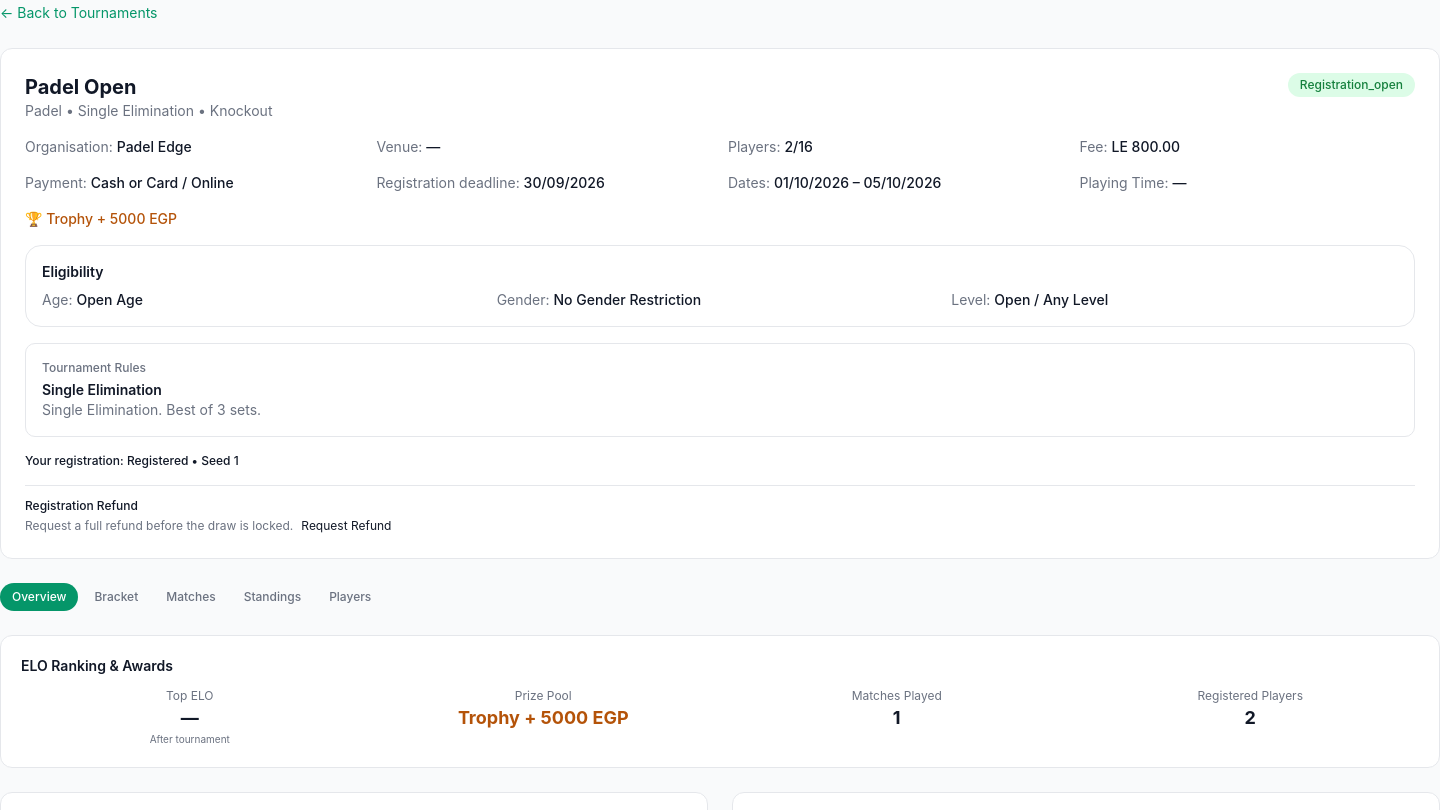
Test: TournamentDetailPage — player detail authoritative contract (Group 1B) › renders the bracket with player names and score_summary
Expected: the heading "Padel Open" is shown, [25,75,136,99]
Click the tab "Bracket" at coordinates (116, 597), box [82,583,150,611]
(page scrolled)
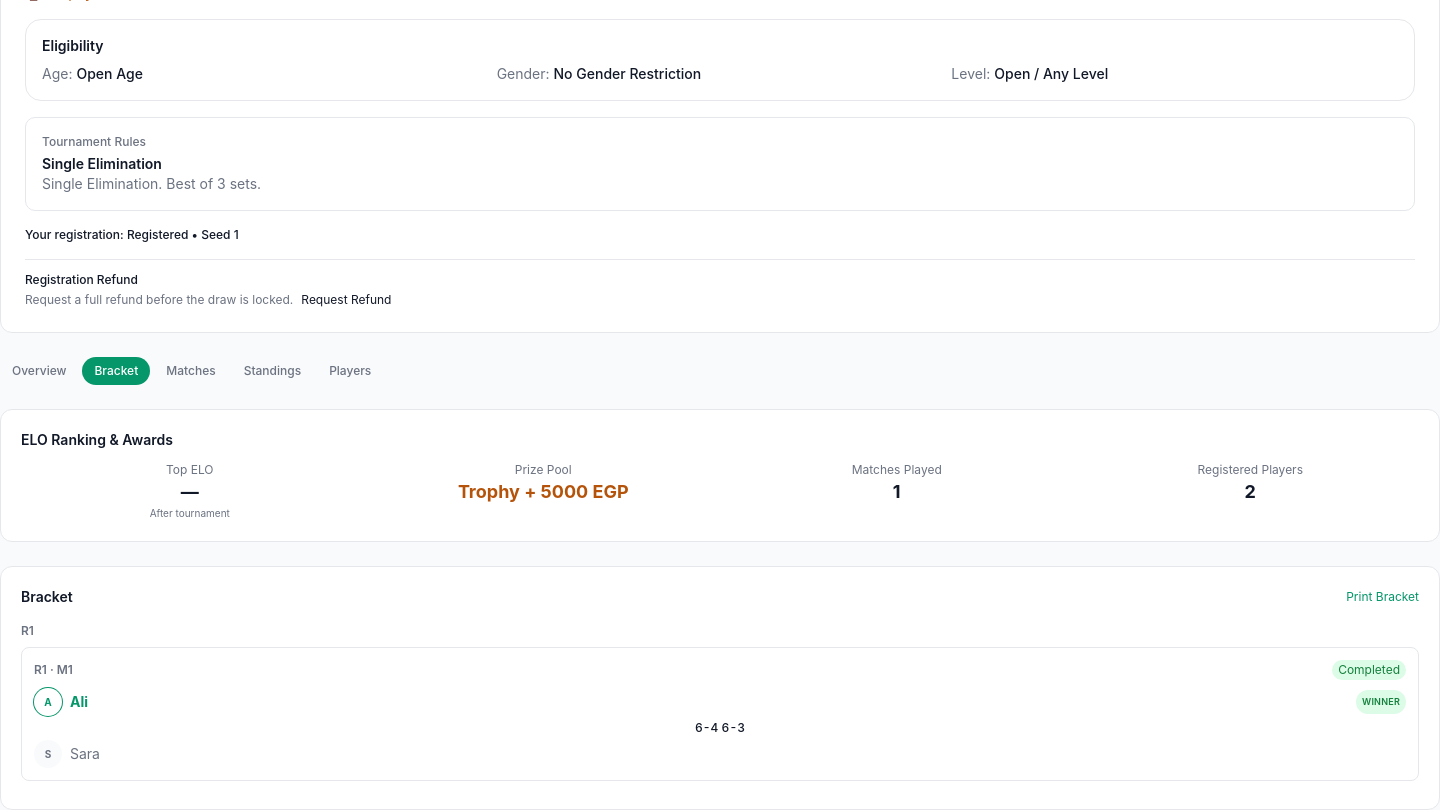
Result: the text "Ali" is shown at [70,693,88,710]
Result: the text "Sara" is shown at [70,745,100,762]
Result: the text "6-4 6-3" is shown at [695,720,745,735]
